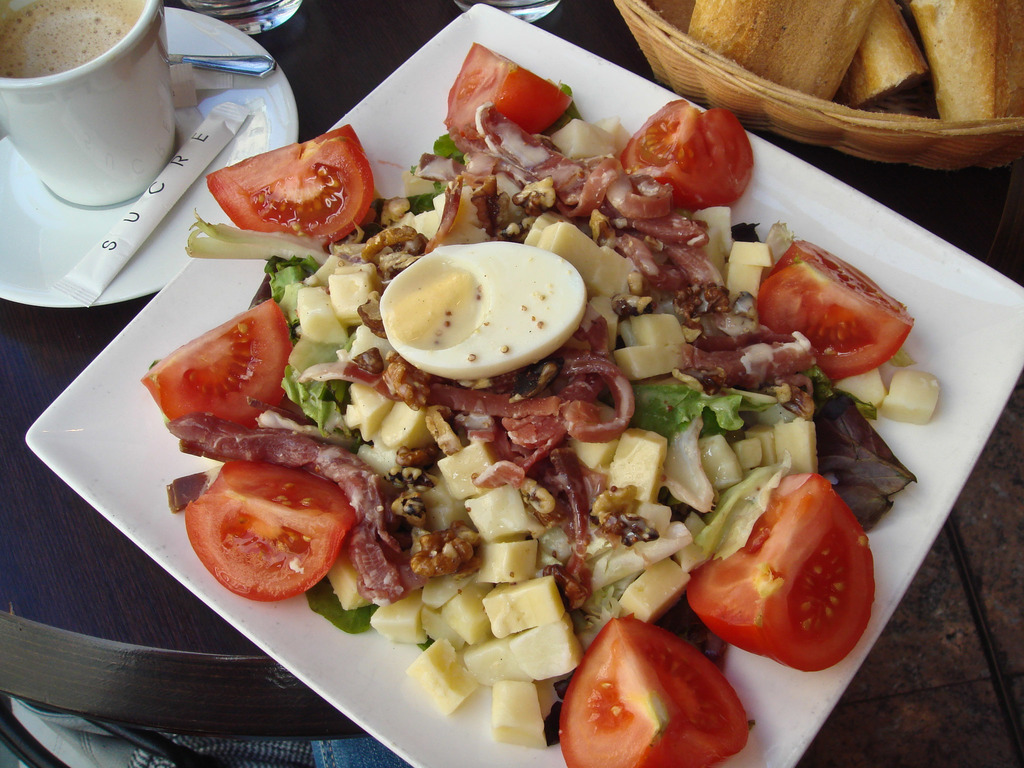Tomato: (684, 471, 874, 675), (557, 611, 749, 765), (181, 457, 357, 605), (754, 237, 915, 381), (205, 122, 375, 247), (139, 294, 295, 428), (618, 94, 755, 212), (443, 40, 572, 144)
